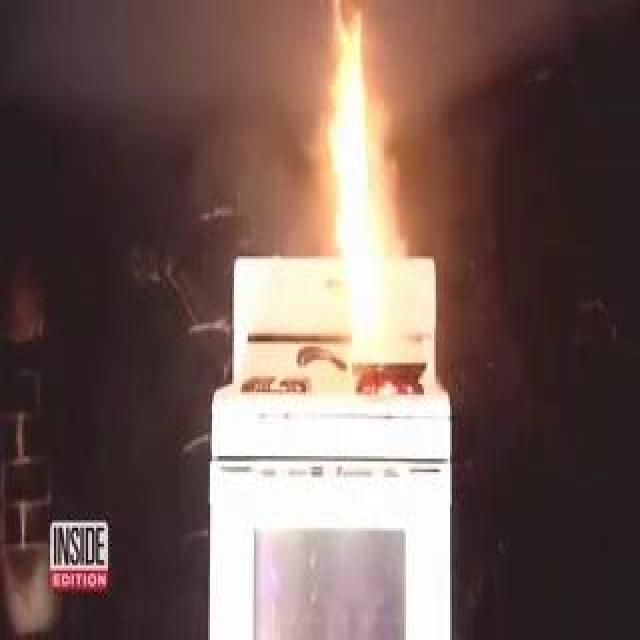Fire: (314, 3, 422, 357)
